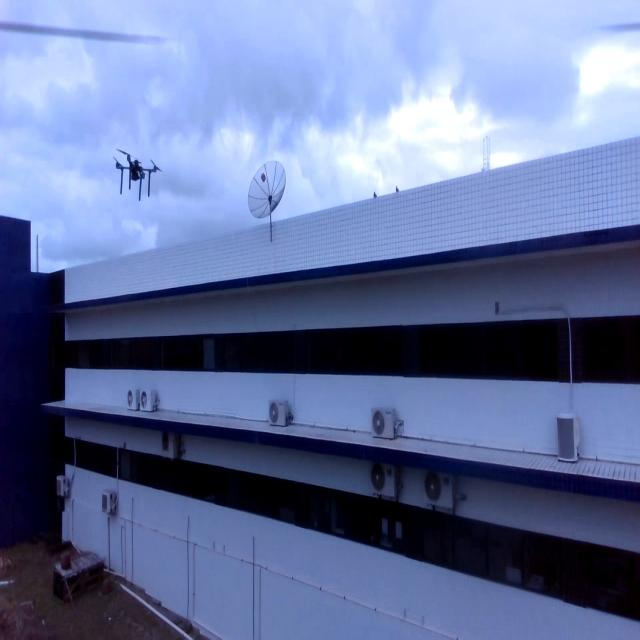-uav-: (109, 142, 166, 212)
